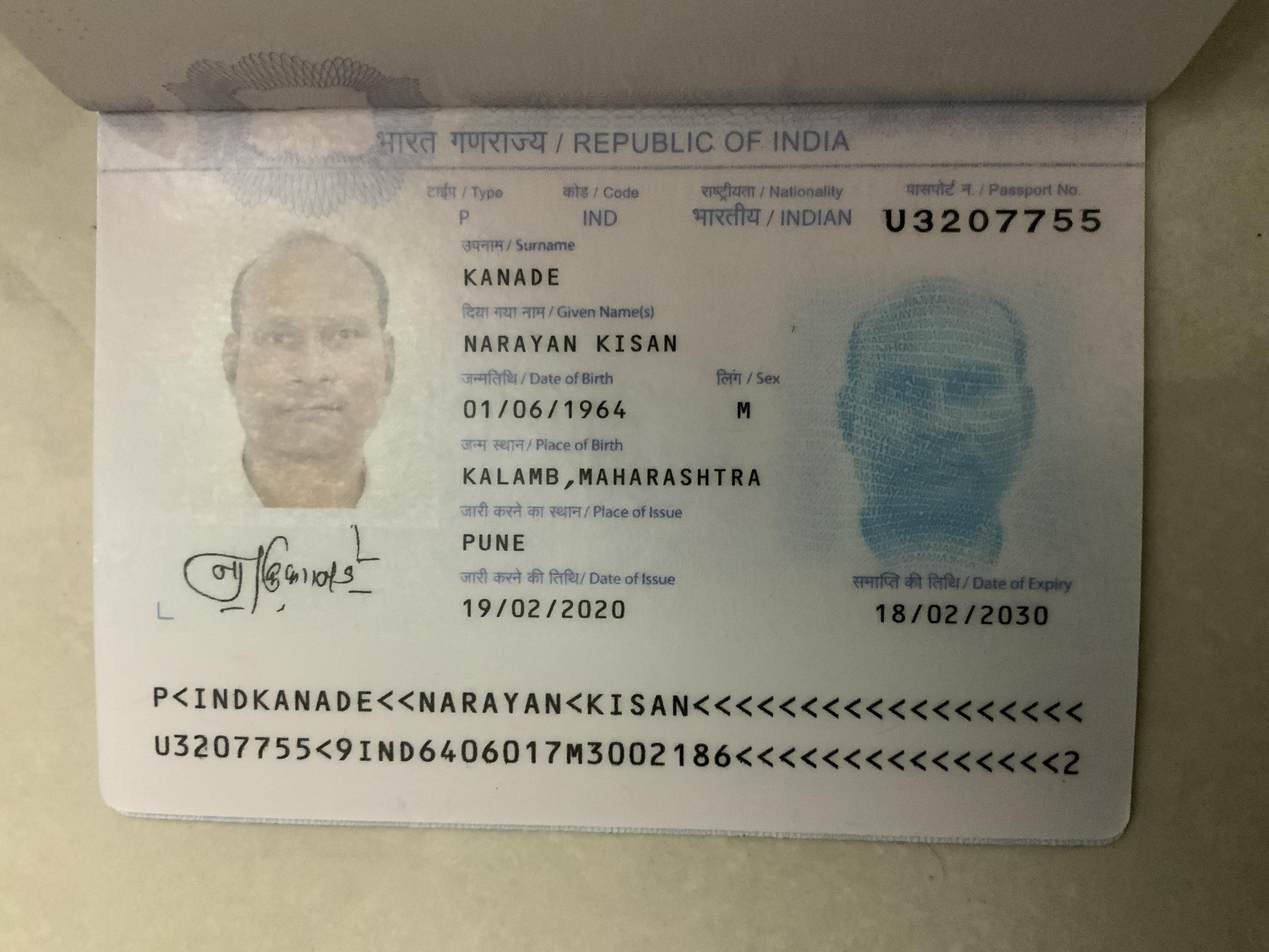DOB: (446, 389, 641, 429)
Surname: (456, 257, 578, 293)
country_code: (569, 201, 627, 230)
date_of_expiry: (857, 587, 1056, 636)
date_of_issue: (454, 585, 634, 635)
details: (137, 674, 1097, 796)
name: (458, 324, 681, 360)
nationality: (680, 203, 860, 238)
passport_no: (870, 197, 1103, 246)
photo: (170, 224, 428, 510)
place_of_birth: (455, 455, 766, 497)
place_of_issue: (461, 524, 533, 560)
sex: (715, 390, 767, 432)
sign: (180, 530, 371, 610)
type: (448, 201, 486, 236)
